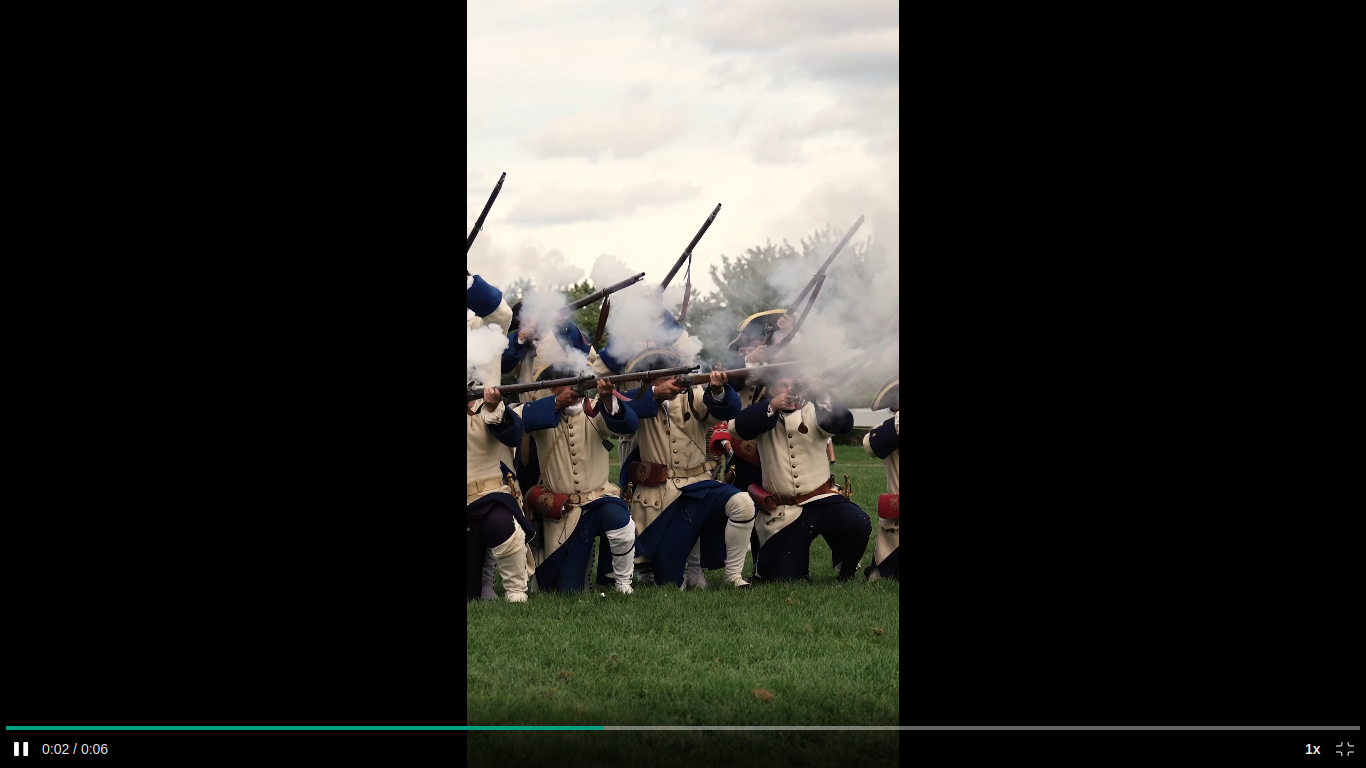gun: (764, 214, 870, 352), (654, 199, 725, 307), (538, 270, 646, 330), (778, 347, 888, 403), (559, 362, 703, 397), (658, 358, 804, 388), (466, 373, 596, 405), (465, 171, 508, 260)
p_w_gun: (616, 341, 806, 592), (510, 358, 700, 596), (741, 354, 892, 579), (464, 367, 595, 606)
